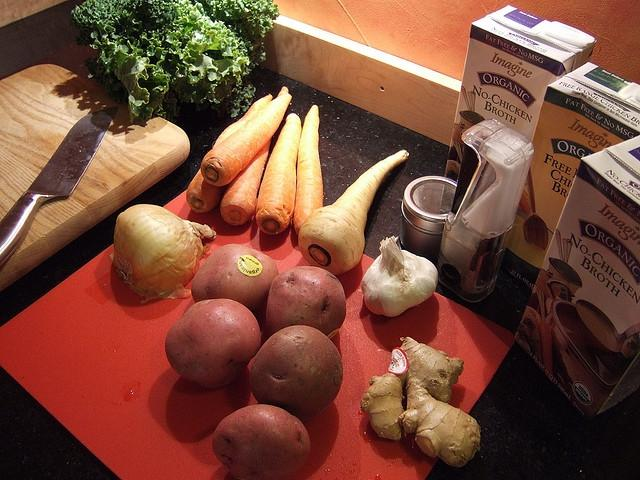carrot: (298, 150, 410, 275), (186, 94, 273, 213), (200, 94, 292, 186), (254, 114, 302, 236), (220, 138, 272, 226), (293, 104, 323, 236)
potato: (250, 325, 344, 422), (164, 298, 261, 390), (212, 404, 311, 480), (191, 244, 280, 312), (266, 266, 346, 340)
